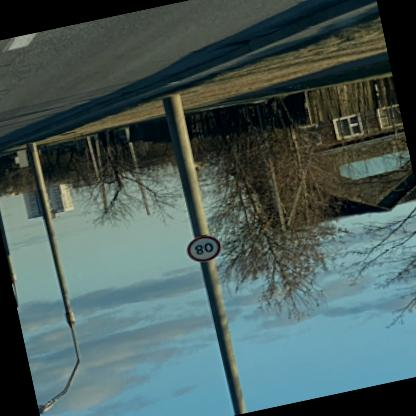speedlimit: (182, 232, 222, 266)
